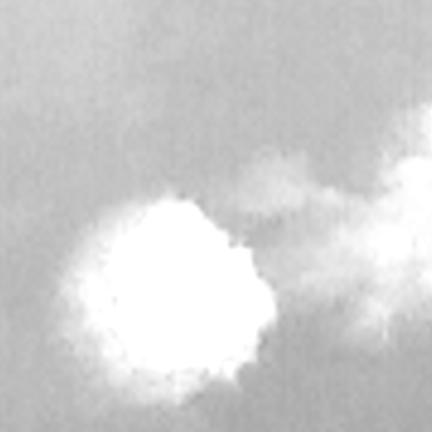flukeprints: (66, 195, 275, 401)
